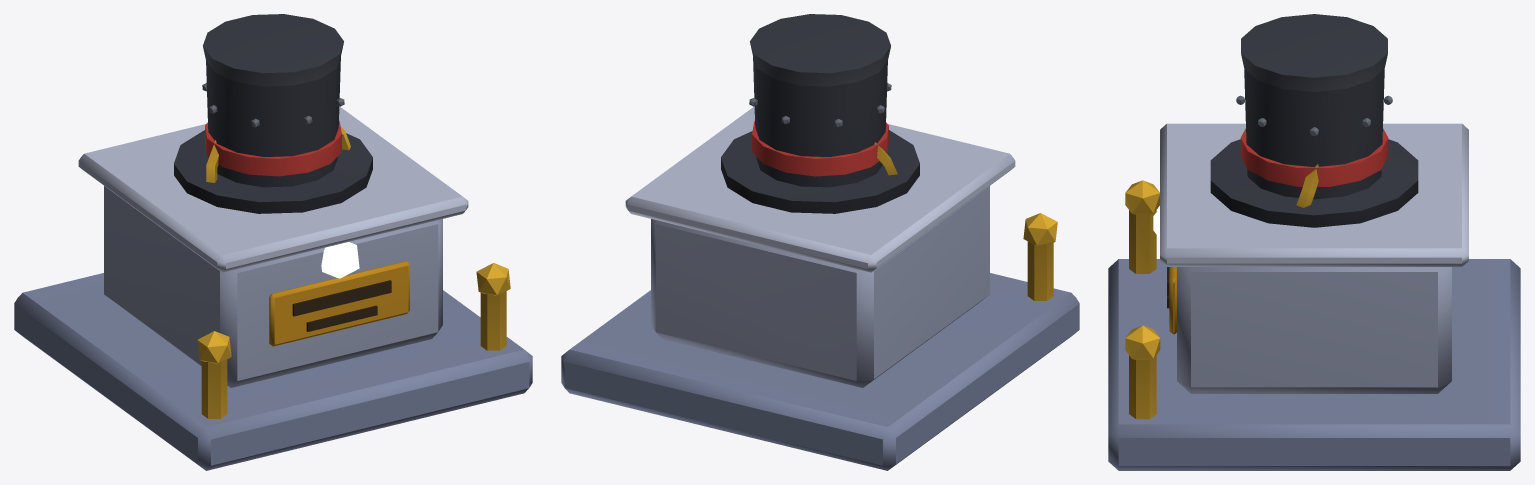
File: b_trophy_bolzen.glb
3 views of the same model, side by side, from view 1: azimuth 30°, elevation 25°; view 2: azimuth 150°, elevation 25°; view 3: azimuth 270°, elevation 25° (orthographic). The views are drawn at different scales.
Parts seen in each view (by area): view 1: body, pulse_gem_glow; view 2: body; view 3: body.
Part boxes in pixels (left/top/right/bottom): body: left=14, top=14, right=532, bottom=470; pulse_gem_glow: left=321, top=242, right=359, bottom=278; body: left=561, top=14, right=1079, bottom=470; body: left=1108, top=14, right=1520, bottom=470.
Size of the model in its own units: 2.4 by 2.22 by 2.4.
